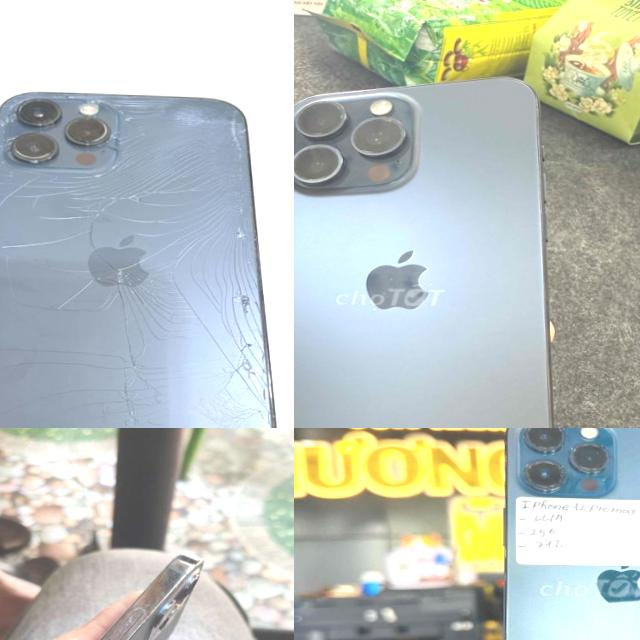physical_damage: (8, 239, 188, 323), (30, 330, 172, 402), (214, 273, 273, 428), (97, 185, 250, 241), (138, 139, 246, 181), (0, 173, 87, 224), (144, 89, 246, 131), (0, 403, 154, 428), (59, 92, 140, 112), (0, 95, 15, 157)
scratch: (0, 562, 182, 640)
